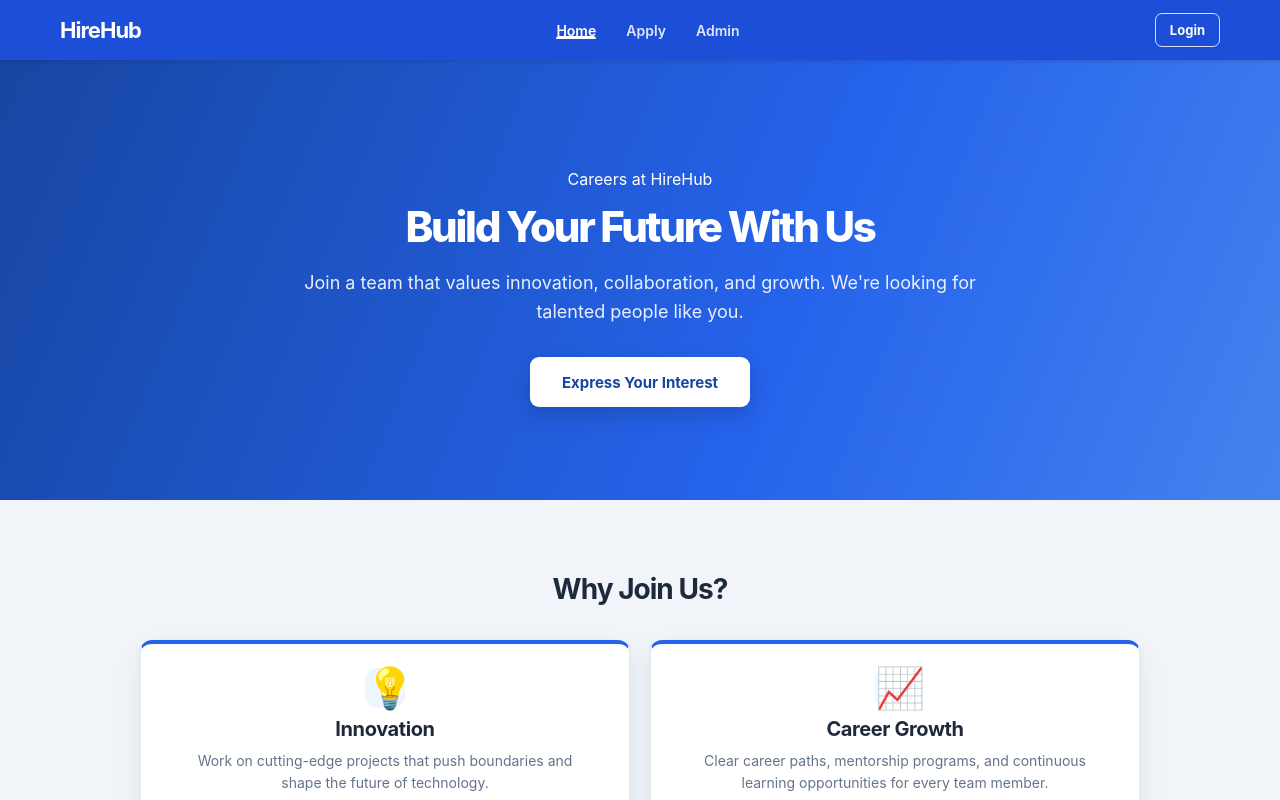
Scenario: HireHub application router and shared session header › routes through visible links and changes header state after demo login/logout
Click the link "Apply": click(646, 30) [626,22,666,38]
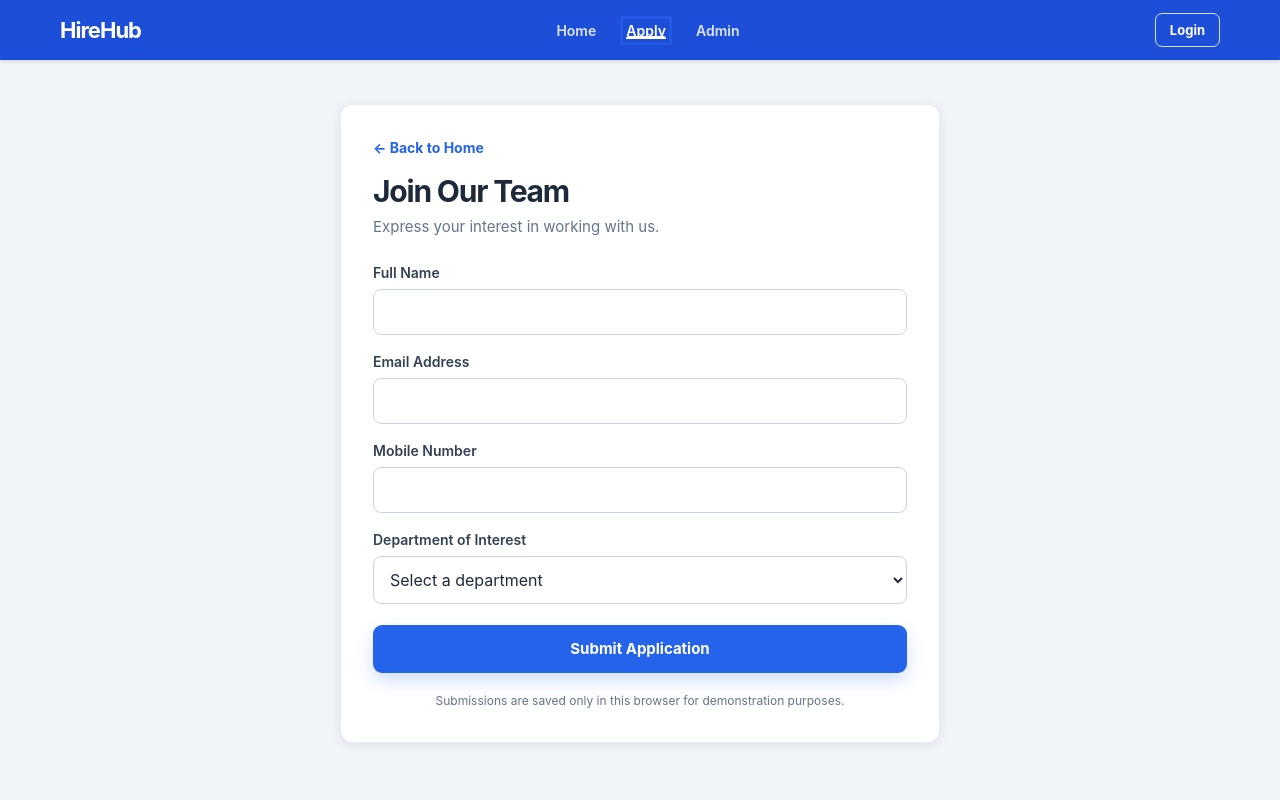
Check: the heading "Join Our Team" is shown, box [373,173,569,209]
Click the link "Admin": click(718, 30) [696,22,739,38]
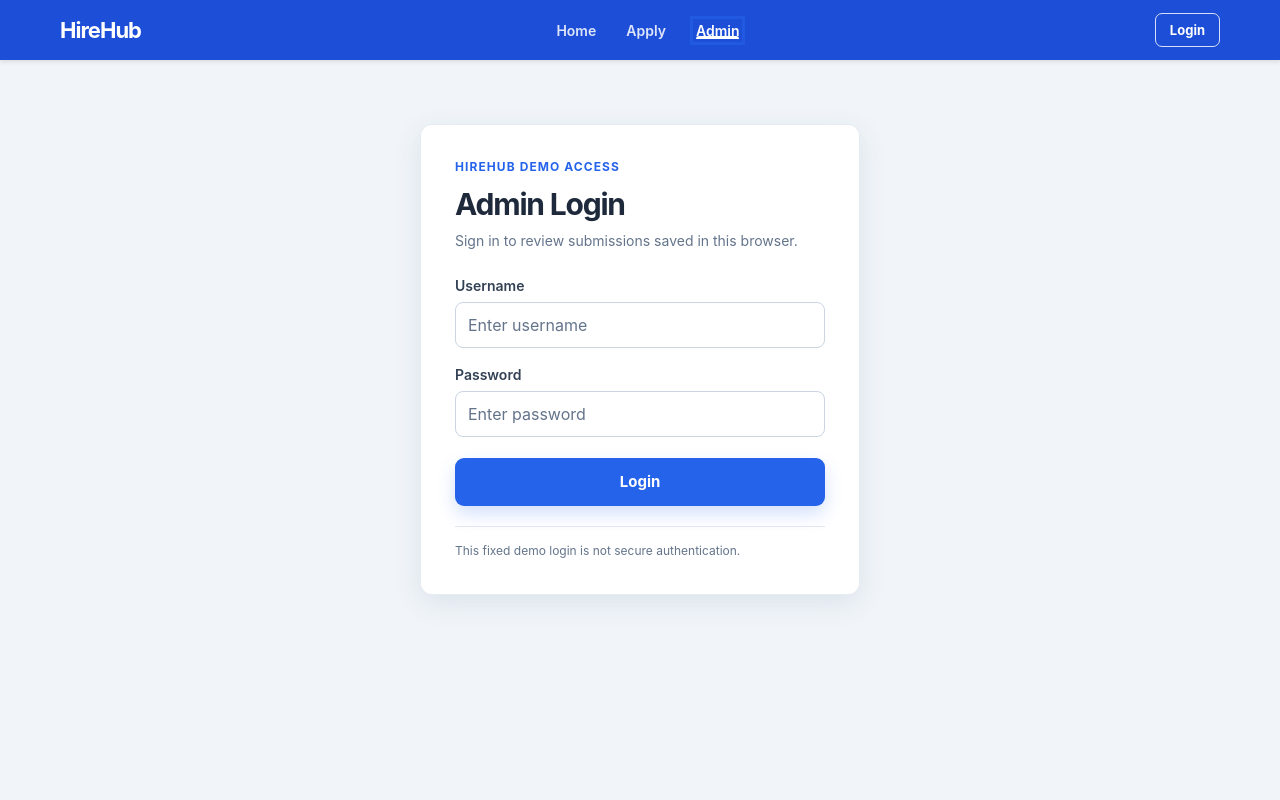
Check: the heading "Admin Login" is shown, box [455,186,625,222]
In the field labelled "Username": (640, 325) [455,302,825,348], type "admin"
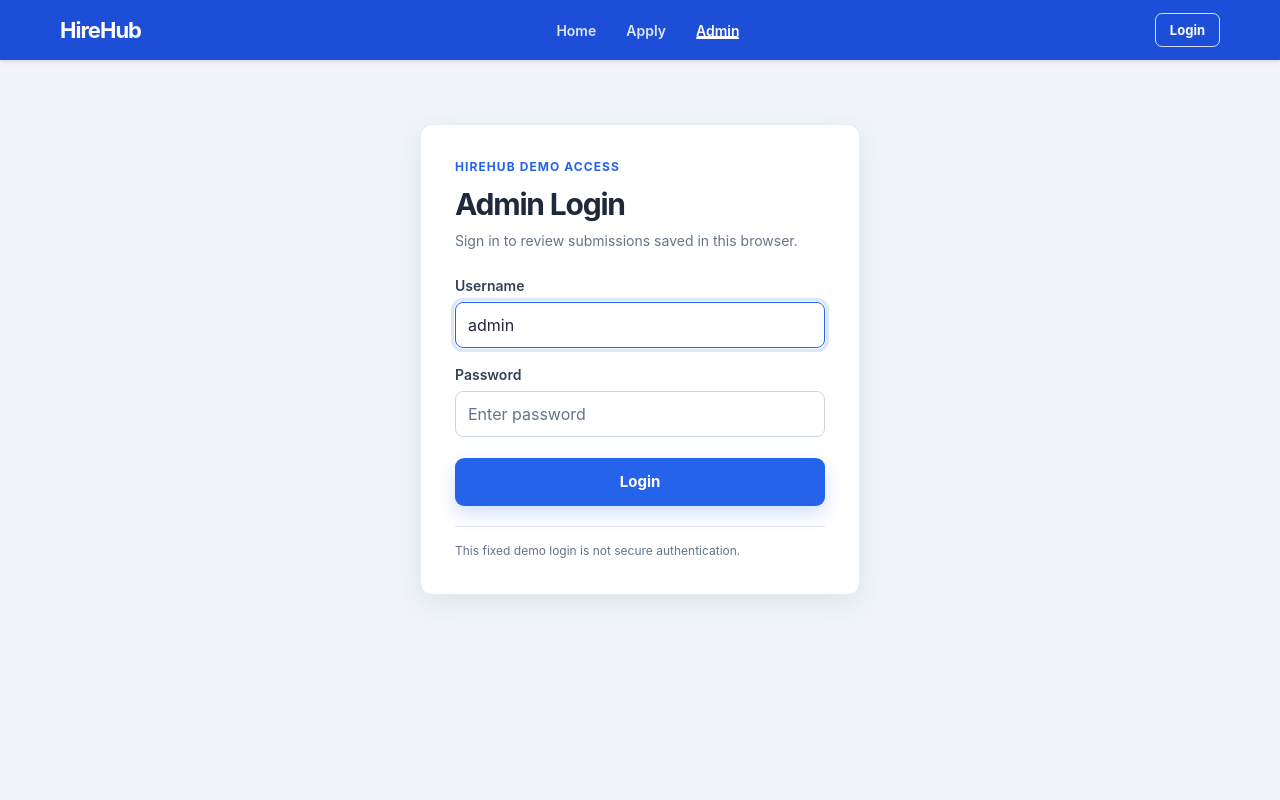
In the password field labelled "Password": (640, 414) [455,391,825,437], type "admin"
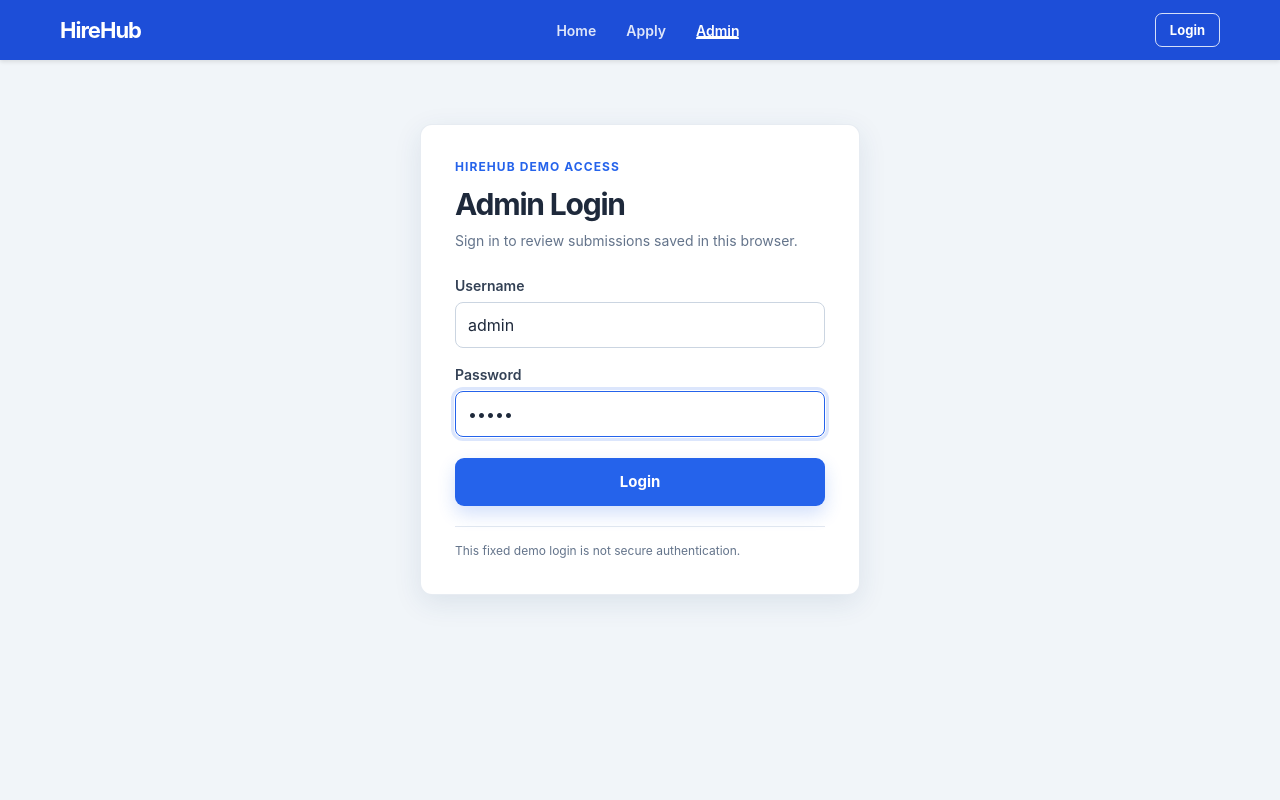
Click the button "Login": click(640, 482) [455,458,825,506]
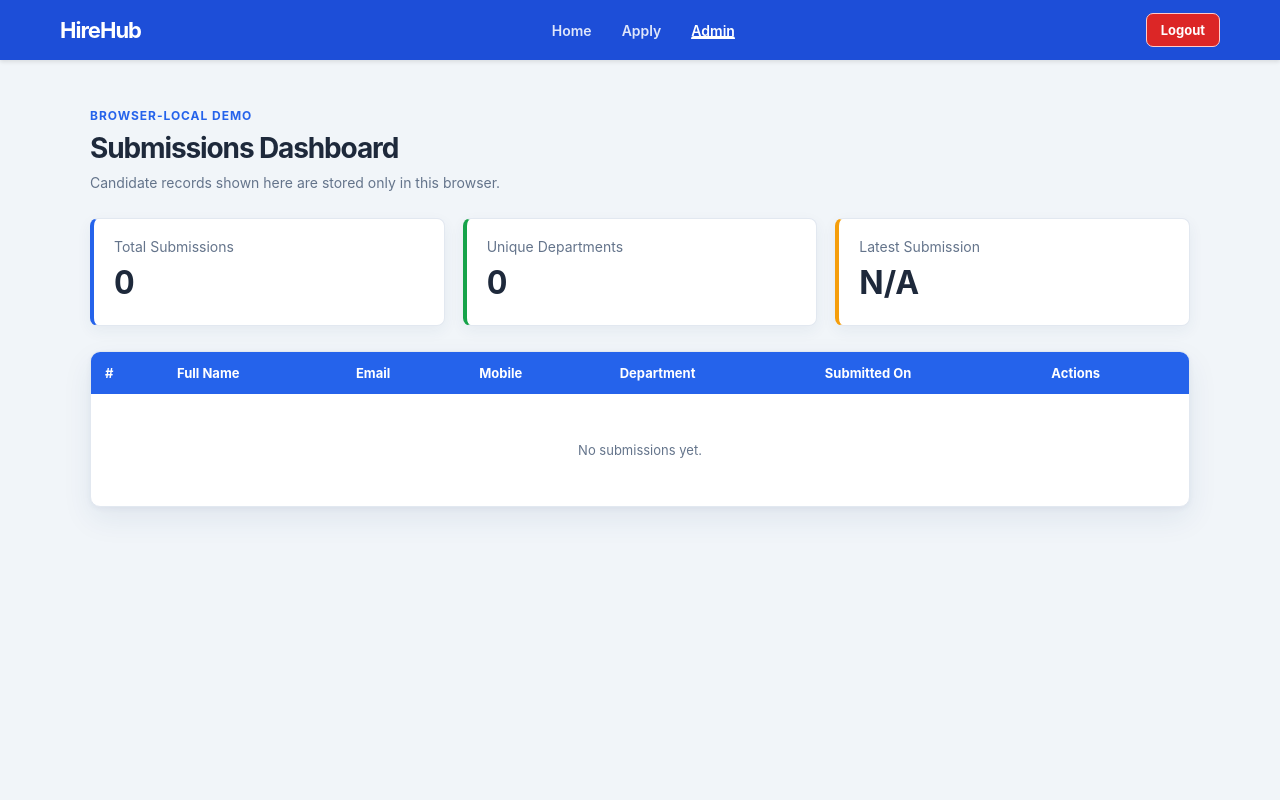
Check: the heading "Submissions Dashboard" is shown, box [90,131,398,165]
Check: the button "Logout" is shown
Click the button "Logout": click(1183, 30) [1146,13,1220,47]
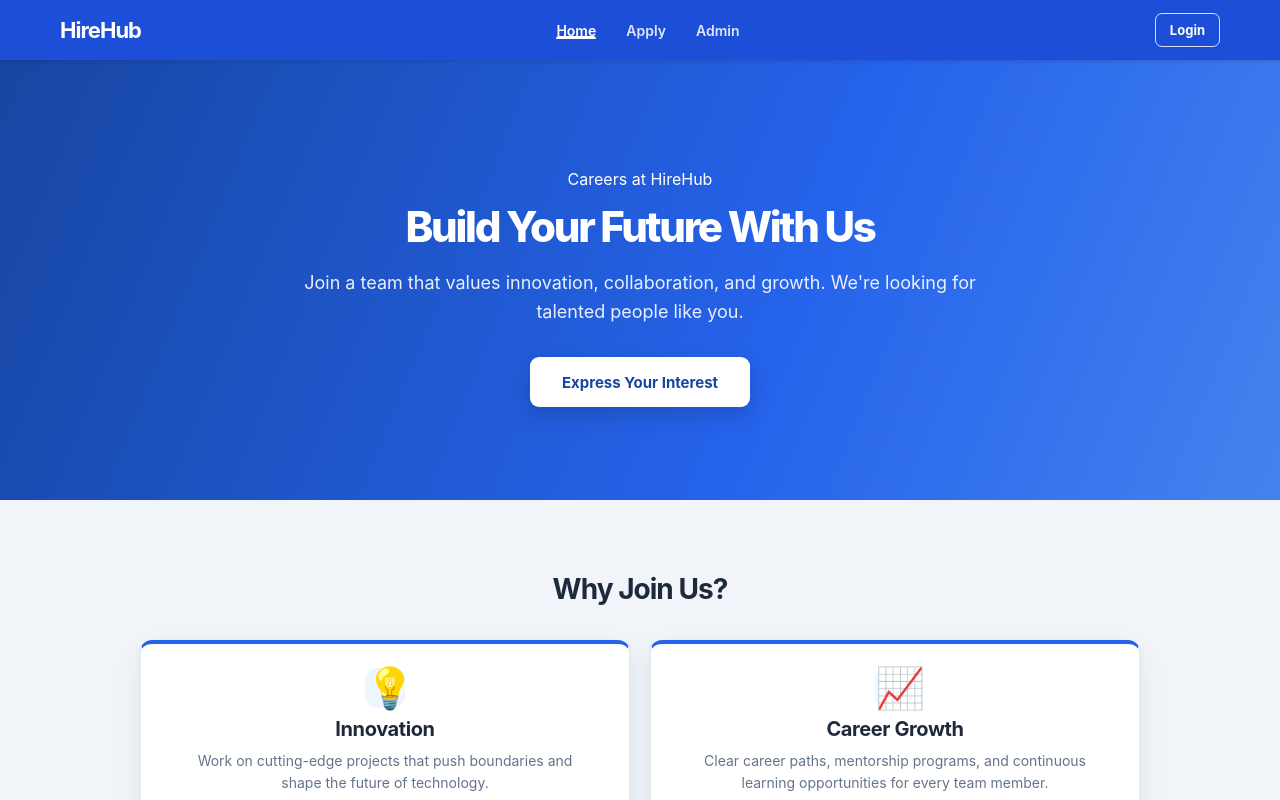
Check: the heading "Build Your Future With Us" is shown, box [406,201,874,252]
